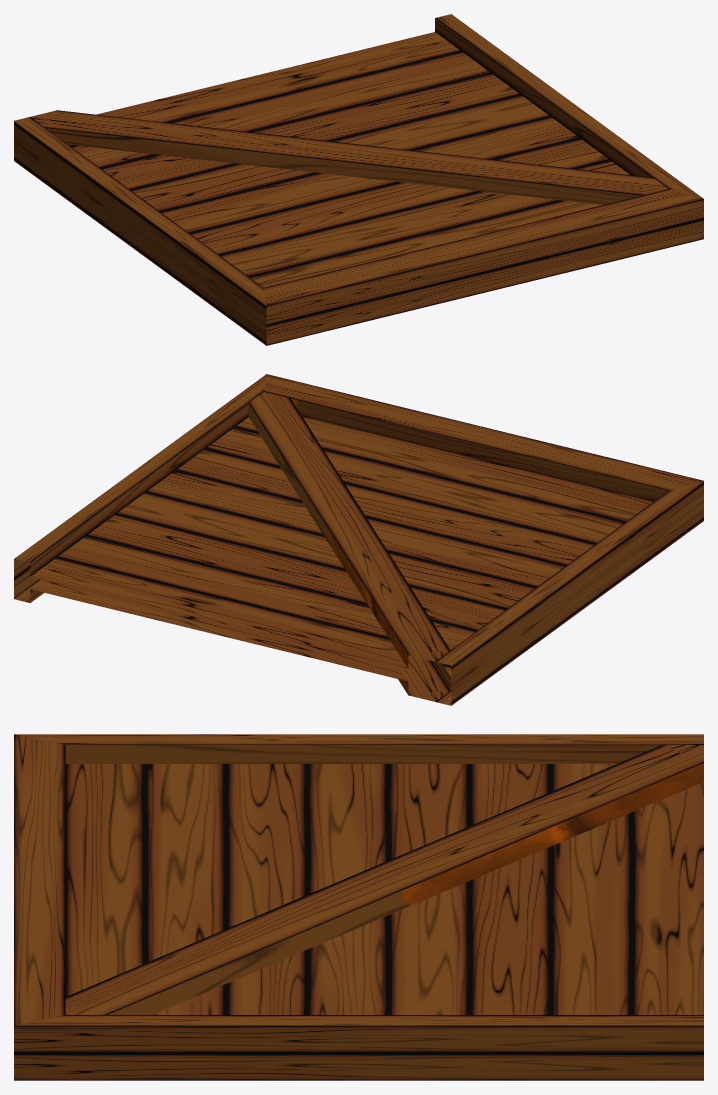
The model's file is MTile_08.fbx.
3 renders of one model, top to bottom at view 1: azimuth 30°, elevation 25°; view 2: azimuth 150°, elevation 25°; view 3: azimuth 270°, elevation 25°, orthographic. The views are drawn at different scales.
Visible parts, largest first — view 1: MTile_08; view 2: MTile_08; view 3: MTile_08.
Part boxes in pixels (left/top/right/bottom): MTile_08: left=14, top=14, right=703, bottom=345; MTile_08: left=14, top=374, right=703, bottom=705; MTile_08: left=14, top=734, right=703, bottom=1080.
Bounding box in the file's own units: 255 × 22.41 × 255.
